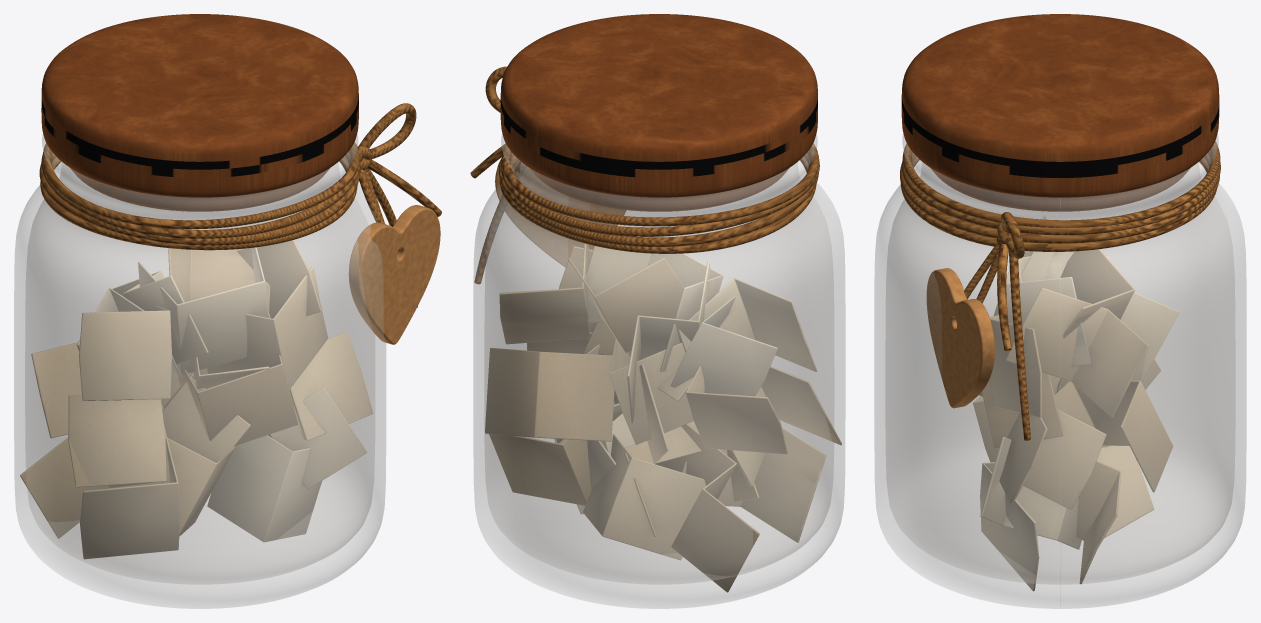
Rendered from toples.glb.
3 renders of one model, left to right at view 1: azimuth 30°, elevation 25°; view 2: azimuth 150°, elevation 25°; view 3: azimuth 270°, elevation 25°, orthographic.
Visible parts, largest first — view 1: Jar_Glass, Paper_Notes, Jar_Lid, Jute_Twine, Heart_Charm; view 2: Jar_Glass, Paper_Notes, Jar_Lid, Jute_Twine, Heart_Charm; view 3: Jar_Glass, Jar_Lid, Paper_Notes, Jute_Twine, Heart_Charm.
Boxes of the visible parts, box(x1,y1,x2,y2) form: Jar_Glass: box(14, 134, 385, 608); Paper_Notes: box(20, 240, 372, 559); Jar_Lid: box(41, 14, 358, 211); Jute_Twine: box(39, 103, 441, 307); Heart_Charm: box(348, 205, 440, 344); Jar_Glass: box(473, 134, 845, 608); Paper_Notes: box(485, 243, 841, 592); Jar_Lid: box(500, 14, 817, 211); Jute_Twine: box(470, 66, 819, 284); Heart_Charm: box(495, 159, 626, 267); Jar_Glass: box(874, 134, 1246, 608); Jar_Lid: box(901, 14, 1219, 211); Paper_Notes: box(973, 215, 1179, 591); Jute_Twine: box(900, 141, 1220, 440); Heart_Charm: box(926, 268, 994, 408).
Size of the model in its own units: 2.68 by 3.22 by 2.3.
Materials: 5 (4 with a texture image).
